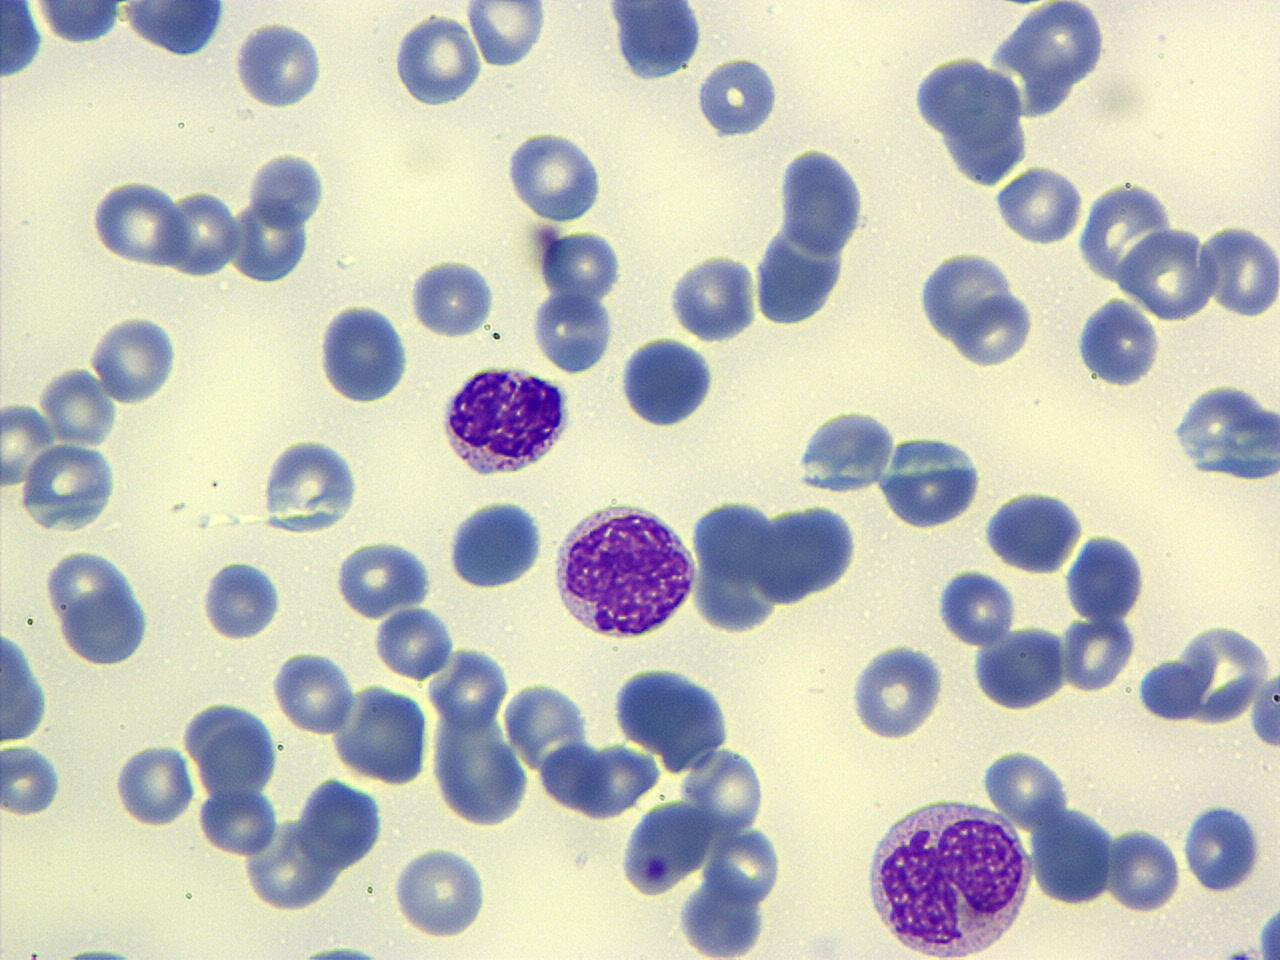Platelets: (258, 437, 366, 536), (776, 145, 870, 258), (846, 640, 948, 744), (501, 127, 607, 226), (1069, 293, 1163, 390), (230, 21, 328, 114), (86, 313, 183, 406), (666, 252, 760, 343), (1180, 801, 1266, 894), (695, 54, 785, 141), (408, 254, 498, 339), (676, 879, 768, 960), (200, 557, 283, 643), (933, 567, 1019, 648), (246, 149, 332, 227), (1, 741, 65, 817), (300, 940, 378, 960), (1252, 905, 1280, 960), (60, 940, 134, 960), (1222, 944, 1258, 960)
RBC: (0, 0, 476, 383), (750, 500, 862, 606), (1169, 377, 1277, 485), (876, 431, 986, 532), (848, 638, 954, 742), (500, 125, 606, 225), (258, 437, 364, 536), (332, 680, 428, 786), (1116, 224, 1218, 322), (17, 441, 122, 534), (390, 842, 490, 939), (86, 178, 191, 270), (980, 486, 1087, 574), (1030, 802, 1116, 908), (86, 312, 182, 406), (392, 10, 482, 110), (664, 250, 760, 343), (1202, 218, 1280, 321), (405, 254, 499, 339), (992, 162, 1085, 247), (333, 538, 428, 621), (982, 744, 1071, 829), (113, 739, 195, 830), (428, 644, 510, 734), (528, 289, 614, 374), (271, 648, 356, 734), (933, 564, 1017, 650), (166, 186, 242, 281), (230, 194, 309, 285), (1105, 824, 1181, 914), (538, 226, 626, 303), (374, 604, 457, 682), (1061, 613, 1139, 694), (196, 786, 274, 858), (464, 1, 546, 69), (2, 741, 65, 819), (1246, 662, 1280, 758)
WBC: (451, 0, 1134, 368), (0, 0, 516, 428), (866, 0, 1280, 462), (901, 0, 1113, 191), (860, 791, 1039, 959), (748, 135, 874, 332), (7, 0, 290, 83), (548, 496, 700, 644), (436, 359, 575, 480), (1136, 615, 1276, 731), (914, 245, 1039, 370), (686, 488, 788, 636), (608, 660, 740, 772), (1167, 377, 1280, 491), (752, 498, 858, 606), (880, 428, 988, 534), (776, 142, 870, 258), (317, 298, 414, 408), (615, 332, 721, 432), (979, 484, 1087, 578), (445, 494, 548, 592), (796, 404, 901, 497), (290, 776, 388, 874), (970, 620, 1068, 714), (1073, 292, 1163, 391), (232, 16, 324, 112), (602, 0, 706, 83), (409, 252, 501, 342), (1061, 531, 1147, 626), (59, 582, 154, 668), (113, 2, 236, 61), (199, 558, 282, 642), (1, 622, 52, 746), (25, 1, 134, 50), (0, 0, 51, 100), (1246, 664, 1280, 756), (1254, 901, 1280, 960)
